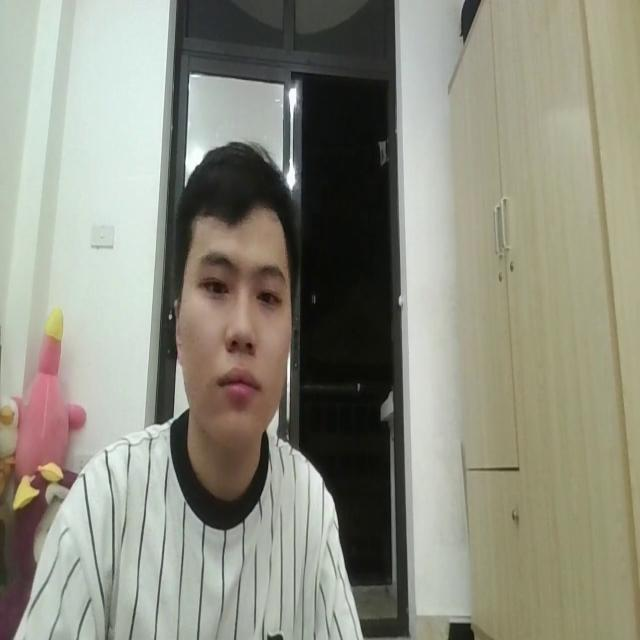student: (8, 133, 364, 640)
